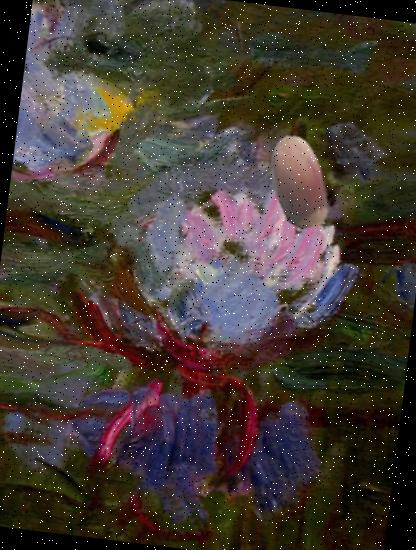Hazelnut: (242, 126, 350, 234)
